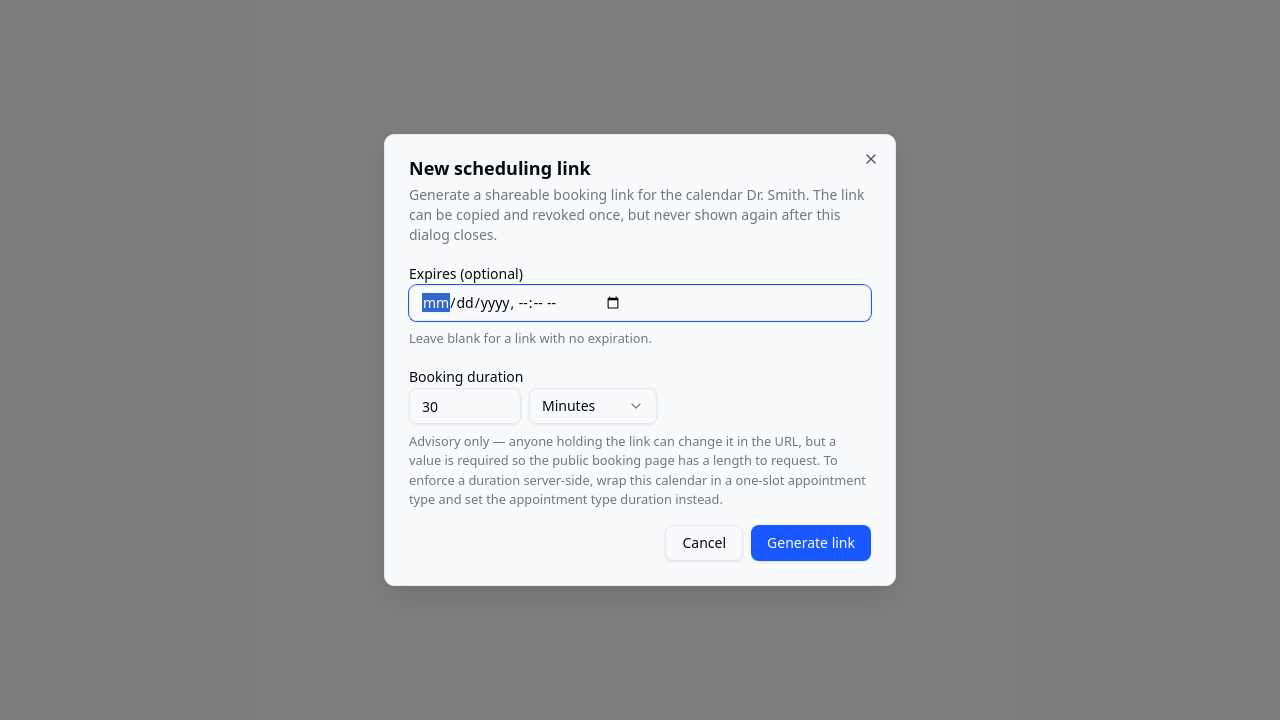
MintBookingLinkDialog › a failed revoke shows an inline failure and does NOT present the link as revoked
Step 1. Click the button with test id "create-booking-link-submit" → (811, 543), box [751,525,871,561]
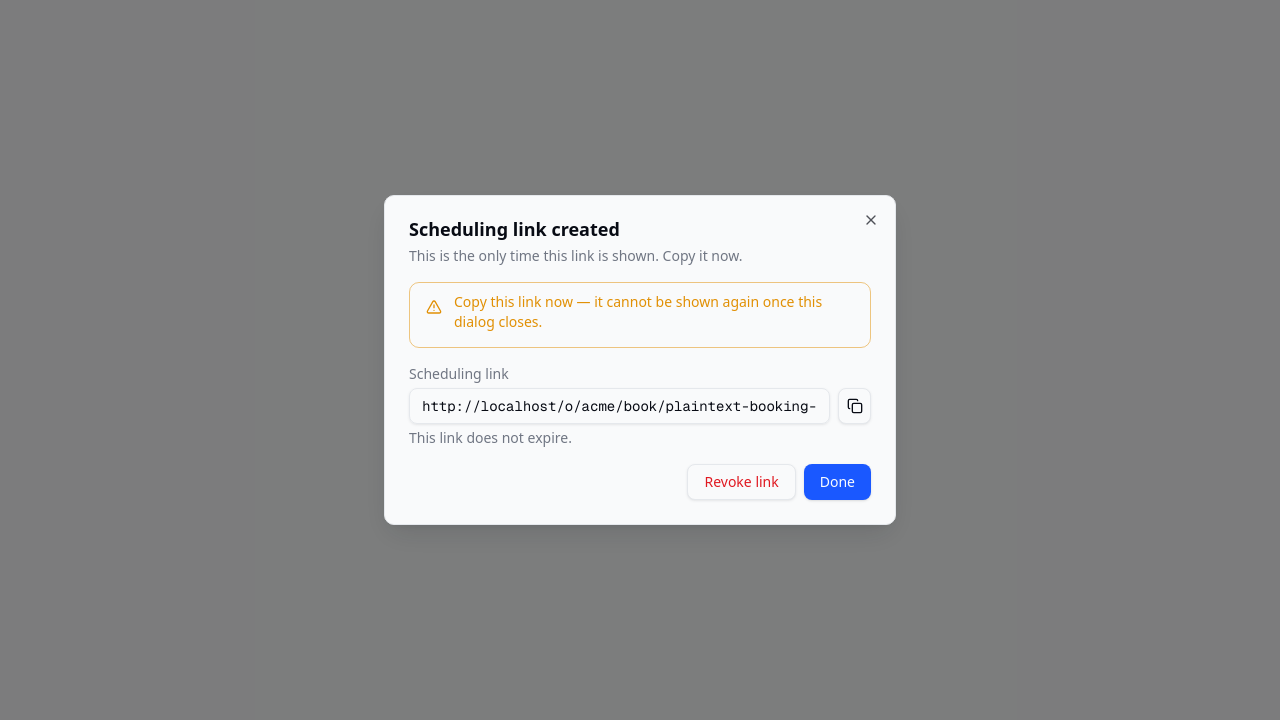
Check: the field with test id "booking-link-url-input" is shown, box [409,388,830,424]
Step 2. Click the button with test id "revoke-booking-link-button" → (742, 482), box [688,464,796,500]
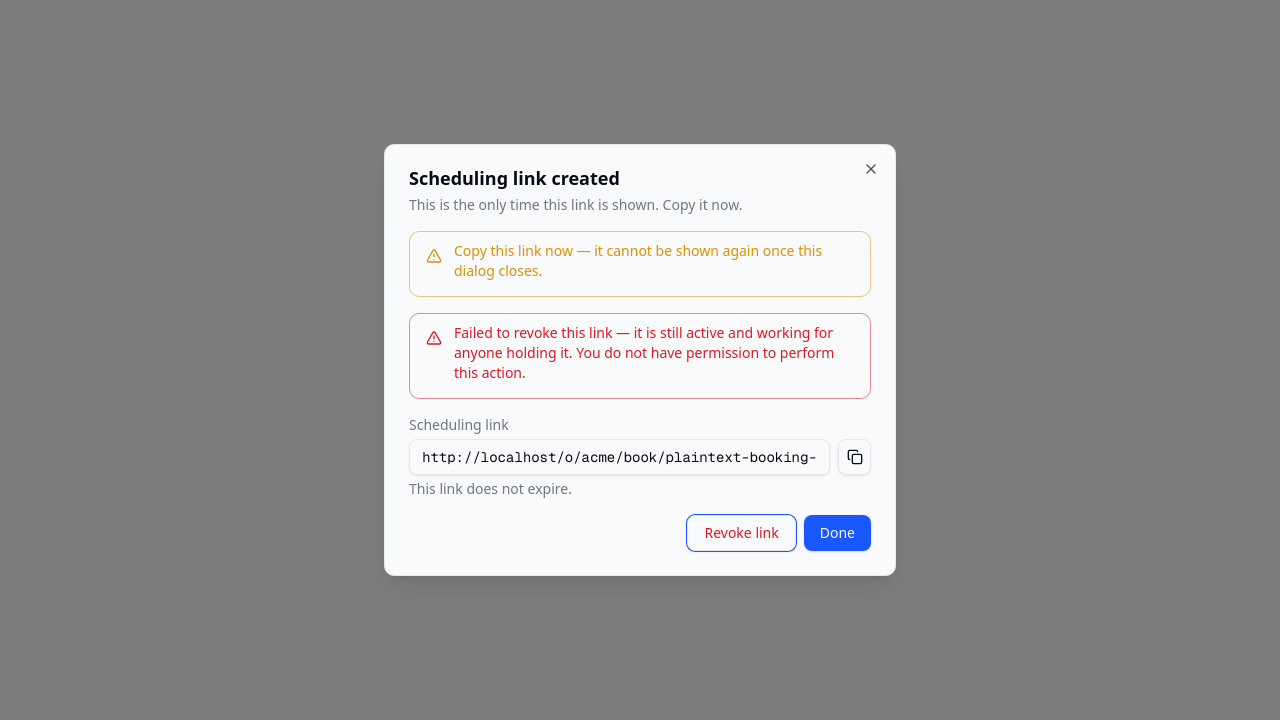
Check: the button with test id "revoke-booking-link-button" is shown, box [688,515,796,551]
Check: the message "Copy this link now — it cannot be shown again once this dialog closes." is shown, box [409,231,871,297]
Check: the message with test id "revoke-failed-notice" shows "You do not have permission to perform this action.", box [454,343,834,382]
